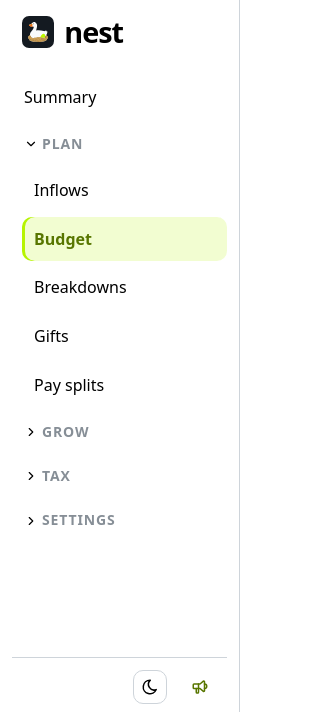
Test: TabBar › keeps a hand-opened group open alongside the active one
Click the button "Grow". click: (120,432)
box: [12,412,227,452]
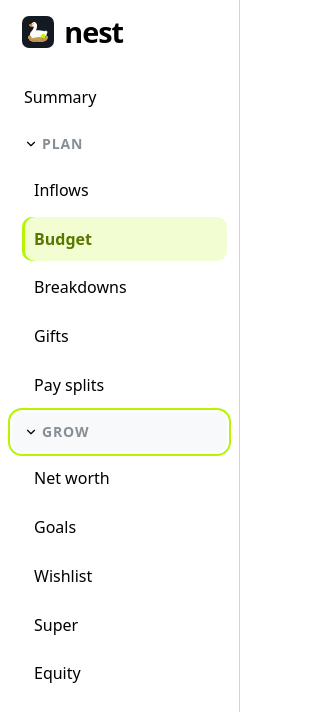
Expected: the button "Grow" is expanded, [12,412,227,452]
